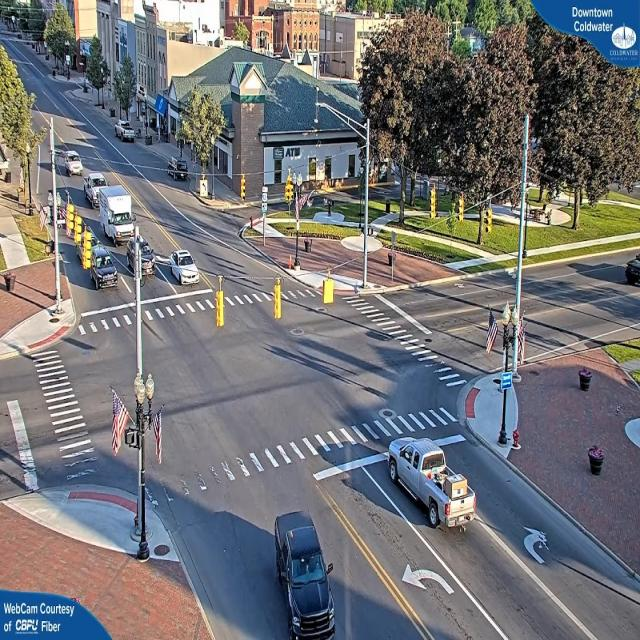car: (272, 513, 338, 634), (167, 250, 200, 285), (117, 124, 136, 142)
